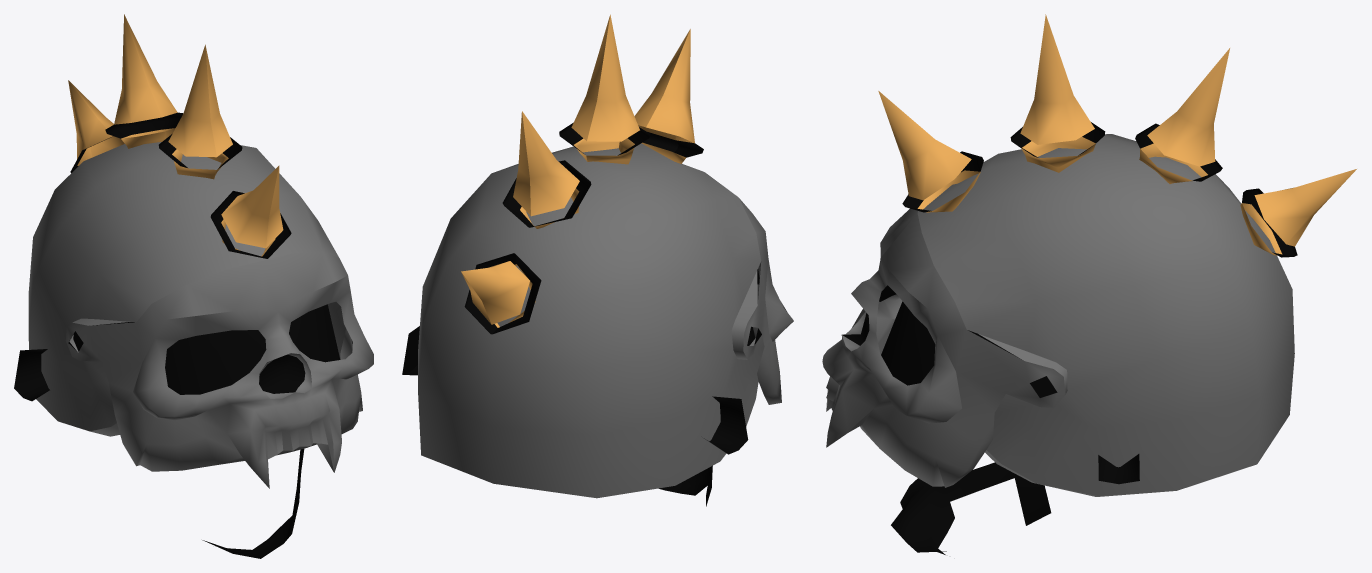
Rendered from Kask_2.fbx.
The picture shows the model from 3 angles, left to right: view 1: azimuth 30°, elevation 25°; view 2: azimuth 150°, elevation 25°; view 3: azimuth 270°, elevation 25°; orthographic projection. The views are drawn at different scales.
Visible parts, largest first — view 1: Mesh_7298.rip; view 2: Mesh_7298.rip; view 3: Mesh_7298.rip.
Boxes of the visible parts, left/top/right/bottom form: Mesh_7298.rip: left=14, top=14, right=373, bottom=558; Mesh_7298.rip: left=402, top=14, right=793, bottom=506; Mesh_7298.rip: left=822, top=14, right=1356, bottom=554.
Size of the model in its own units: 26.04 by 40.49 by 35.41.
